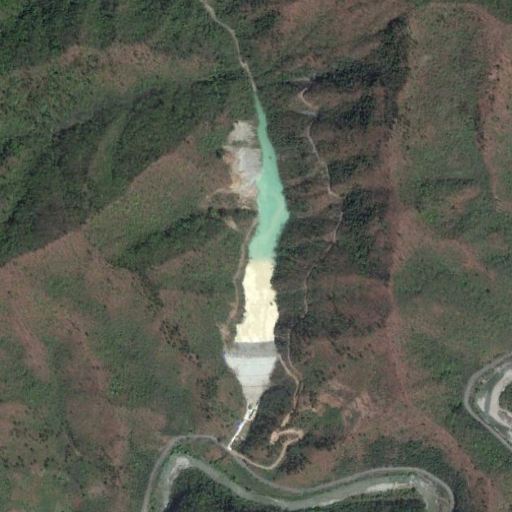tp: (225, 94, 290, 407)
